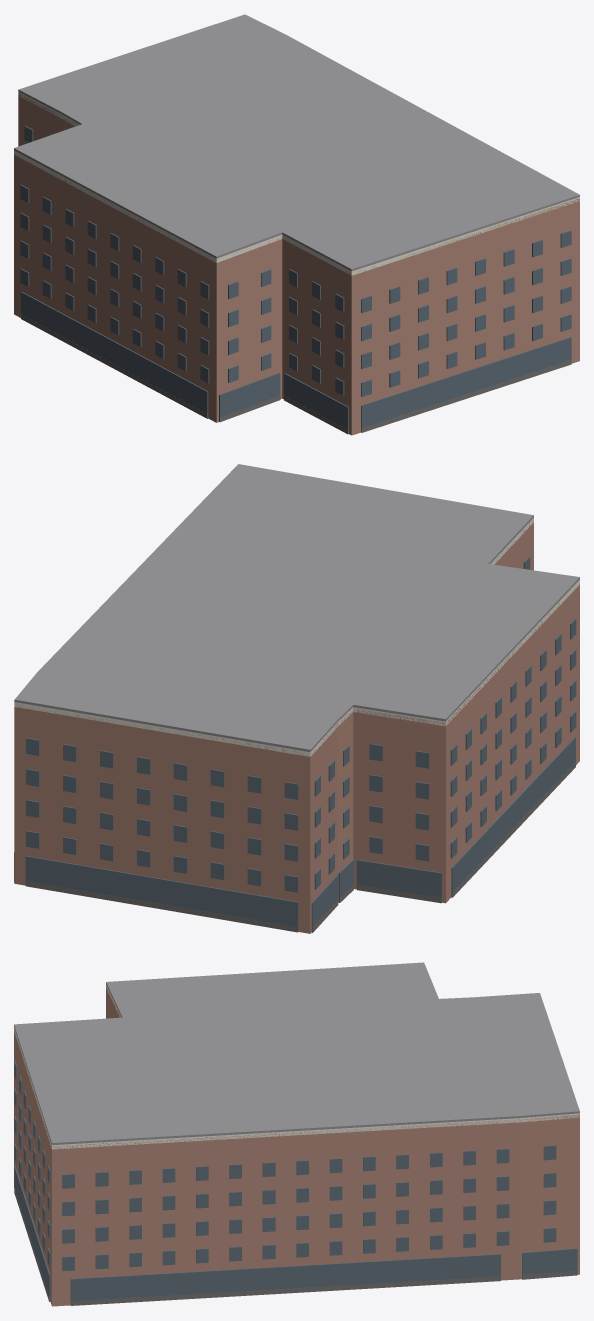
File: s30_tile_tile__2_0_2.glb
3 views of the same model, one above another, from view 1: azimuth 30°, elevation 25°; view 2: azimuth 150°, elevation 25°; view 3: azimuth 270°, elevation 25° (orthographic). The views are drawn at different scales.
Visible parts, largest first — view 1: roofcap, mass, store_9, store_6, cornice, store_8, store_7, bulk_9, bulk_6; view 2: roofcap, mass, store_2, store_6, cornice, store_5, bulk_2, store_3, bulk_6; view 3: roofcap, mass, store_0, cornice, bulk_0, store_1, store_9.
Boxes of the visible parts, box(x1,y1,x2,y2) form: roofcap: box(14, 14, 579, 271); mass: box(14, 93, 579, 435); store_9: box(361, 337, 571, 430); store_6: box(21, 292, 208, 413); cornice: box(14, 92, 579, 275); store_8: box(284, 373, 348, 432); store_7: box(219, 372, 280, 419); bulk_9: box(361, 360, 571, 432); bulk_6: box(21, 314, 208, 418); roofcap: box(14, 464, 579, 751); mass: box(14, 521, 579, 933); store_2: box(25, 856, 298, 929); store_6: box(451, 737, 575, 895); cornice: box(14, 518, 579, 756); store_5: box(356, 859, 441, 899); bulk_2: box(25, 881, 298, 932); store_3: box(311, 875, 338, 930); bulk_6: box(451, 762, 575, 897); roofcap: box(14, 962, 579, 1145); mass: box(14, 987, 579, 1306); store_0: box(70, 1254, 500, 1301); cornice: box(14, 984, 579, 1149); bulk_0: box(70, 1276, 500, 1305); store_1: box(522, 1248, 577, 1277); store_9: box(14, 1166, 50, 1299).
Size of the model in its own units: 42.32 by 17.85 by 56.03.
